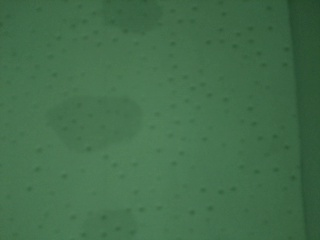Water_detected: (56, 98, 134, 159), (84, 201, 130, 238), (94, 0, 141, 21)
